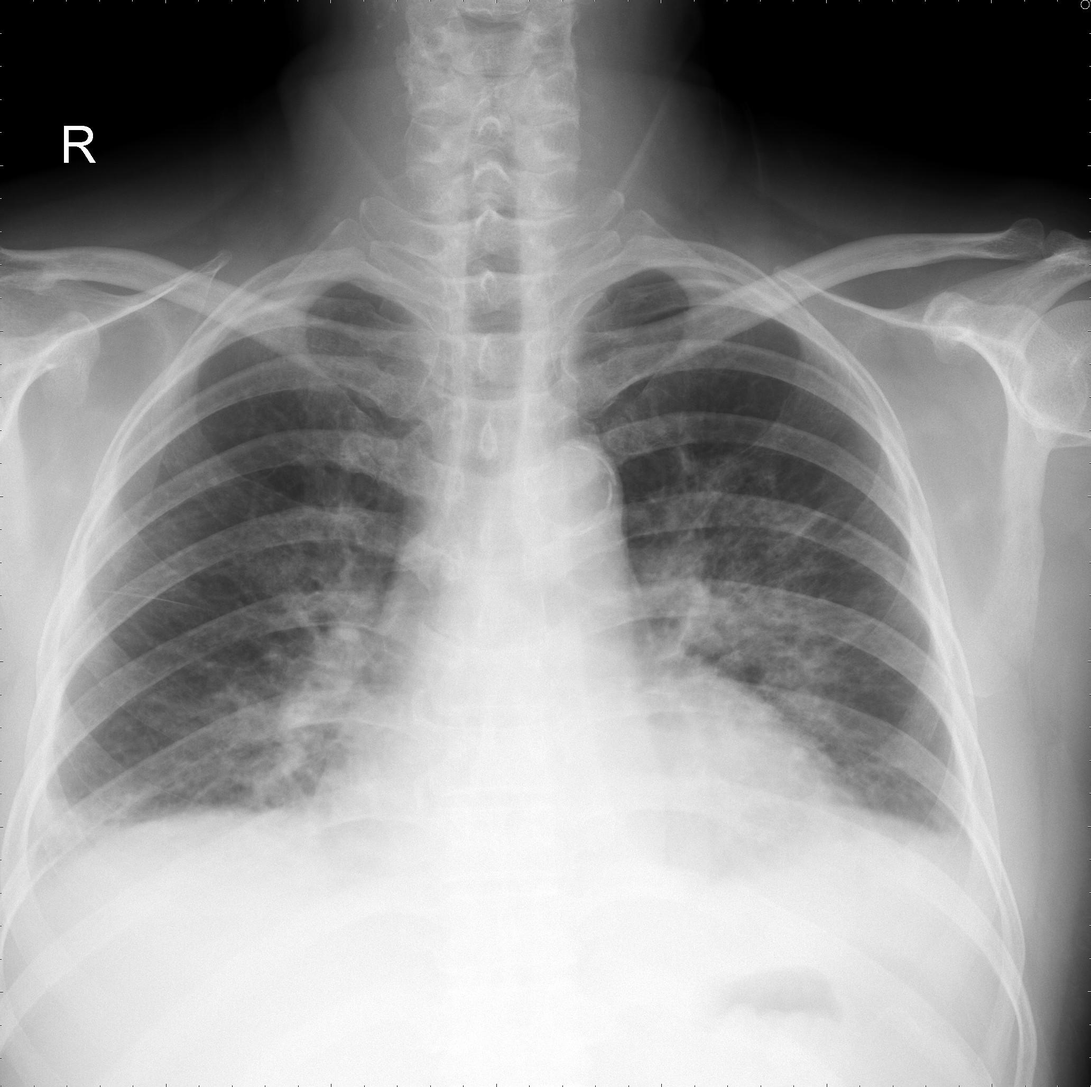Aortic enlargement: (506, 442, 628, 568)
Cardiomegaly: (316, 763, 848, 849)
Pleural thickening: (11, 755, 91, 927)
